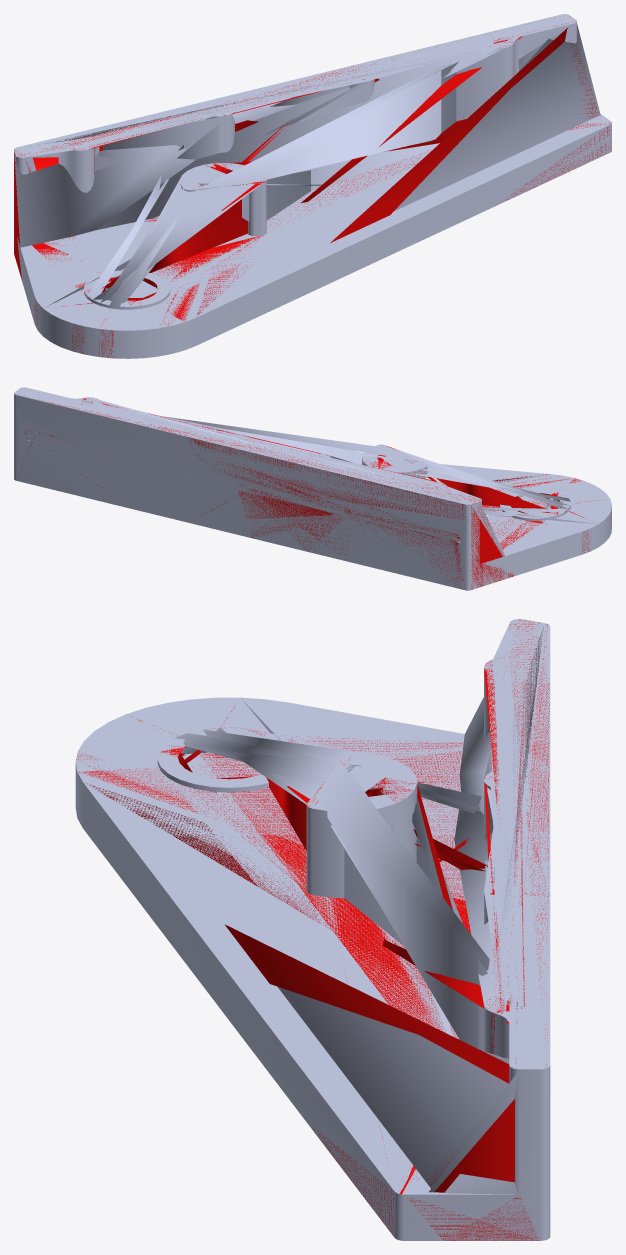
The model's file is R_foot_link.dae.
The picture shows the model from 3 angles, top to bottom: view 1: azimuth 30°, elevation 25°; view 2: azimuth 150°, elevation 25°; view 3: azimuth 270°, elevation 25°; orthographic projection. The views are drawn at different scales.
Visible parts, largest first — view 1: node1, node0, node3; view 2: node0, node1, node3; view 3: node1, node0, node3.
Part boxes in pixels (box(x1,y1,x2,y2)): node1: box(14, 14, 608, 355); node0: box(14, 14, 611, 358); node3: box(14, 16, 610, 358); node0: box(14, 387, 611, 590); node1: box(15, 388, 608, 589); node3: box(17, 394, 611, 589); node1: box(75, 619, 550, 1240); node0: box(75, 619, 550, 1240); node3: box(76, 619, 549, 1240).
Bounding box in the file's own units: 0.115 × 0.0185 × 0.0464.
